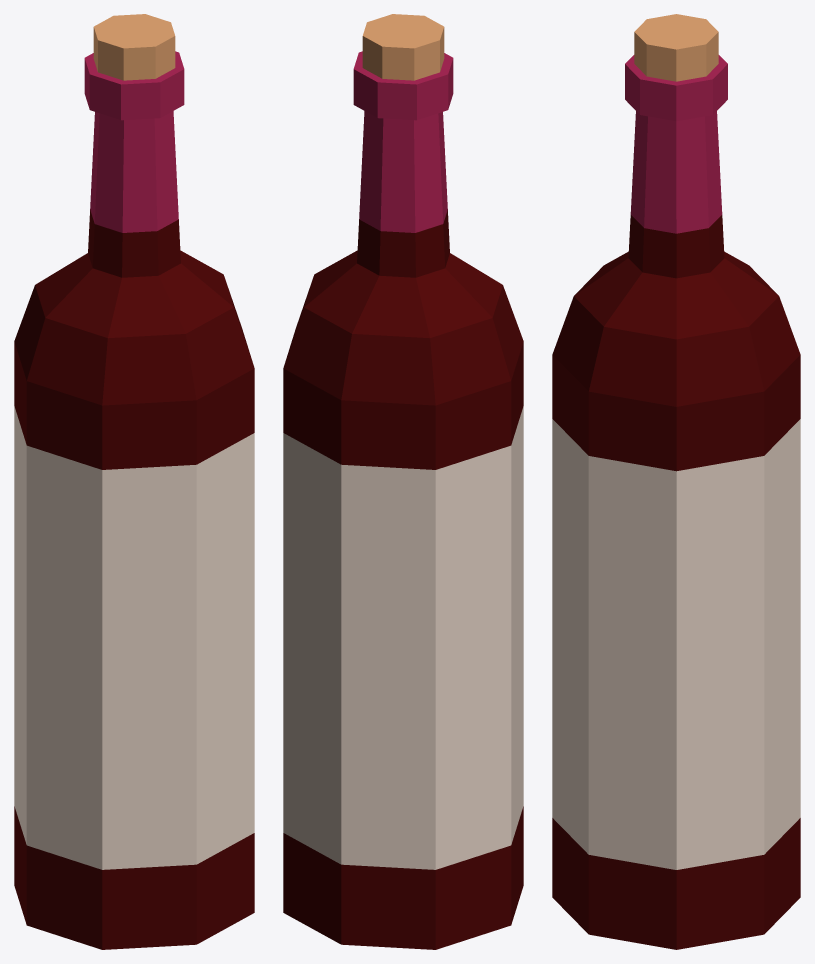
The model's file is wineBottle.FBX.
The picture shows the model from 3 angles, left to right: view 1: azimuth 30°, elevation 25°; view 2: azimuth 150°, elevation 25°; view 3: azimuth 270°, elevation 25°; orthographic projection.
Parts seen in each view (by area): view 1: wineBottle; view 2: wineBottle; view 3: wineBottle.
Part boxes in pixels (bbox=[...]): wineBottle: bbox=[14, 14, 254, 949]; wineBottle: bbox=[283, 14, 523, 949]; wineBottle: bbox=[552, 14, 800, 949].
Size of the model in its own units: 2.1 by 8.1 by 2.1.
